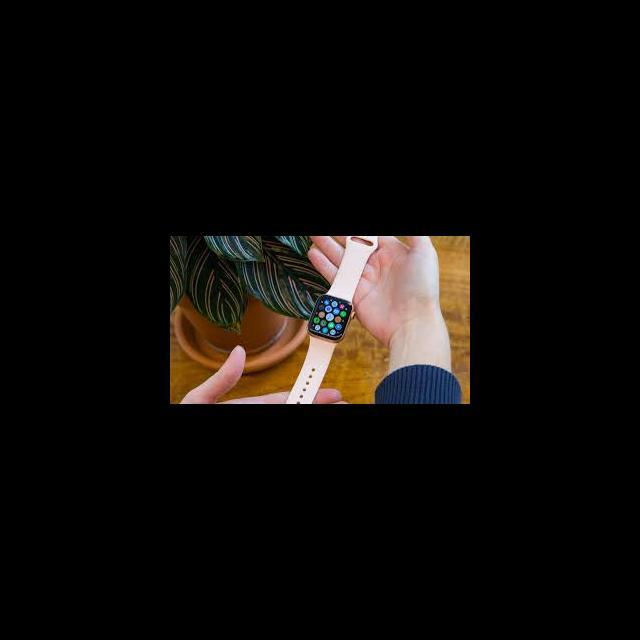watch: (310, 230, 387, 427)
